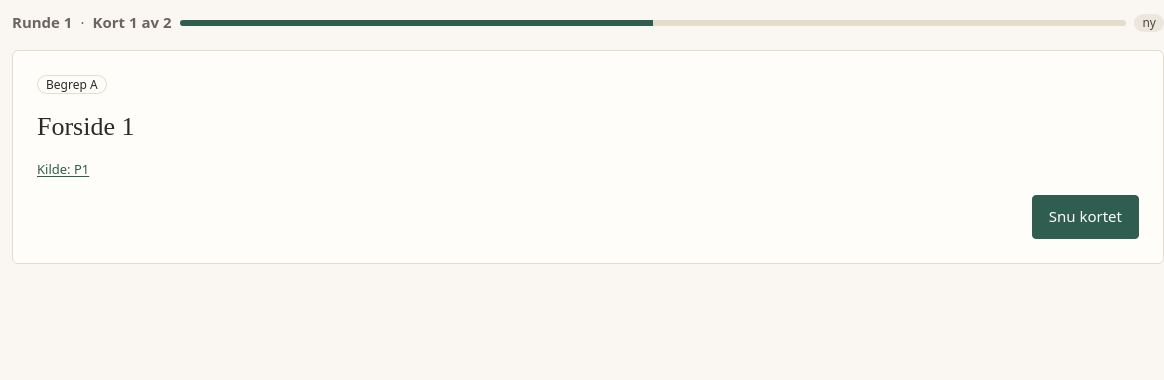
Test case: RoundScreen Flashcards › 'Snu kortet' shows the answer and focuses it
Expected: the text "Svar 1" is not shown
Click the button "Snu kortet".
click(1085, 217)  # box [1032,195,1139,239]
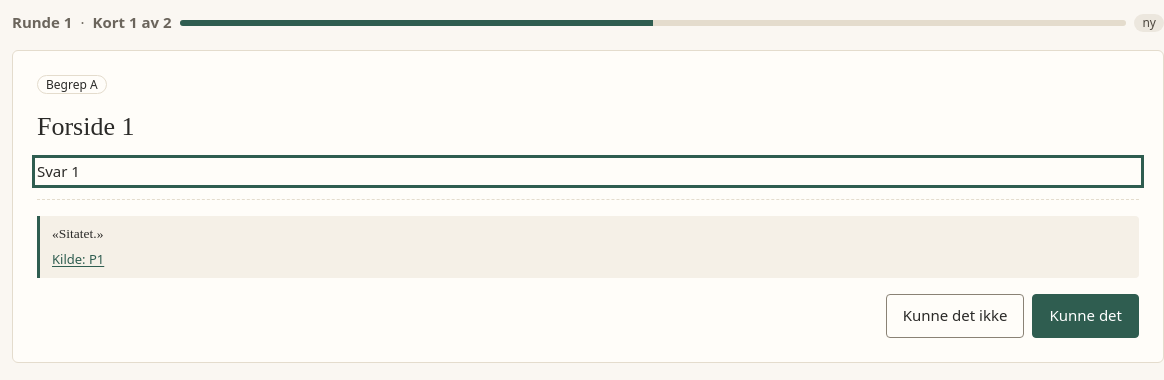
Expected: the text "Svar 1" is shown, [37,161,80,181]
